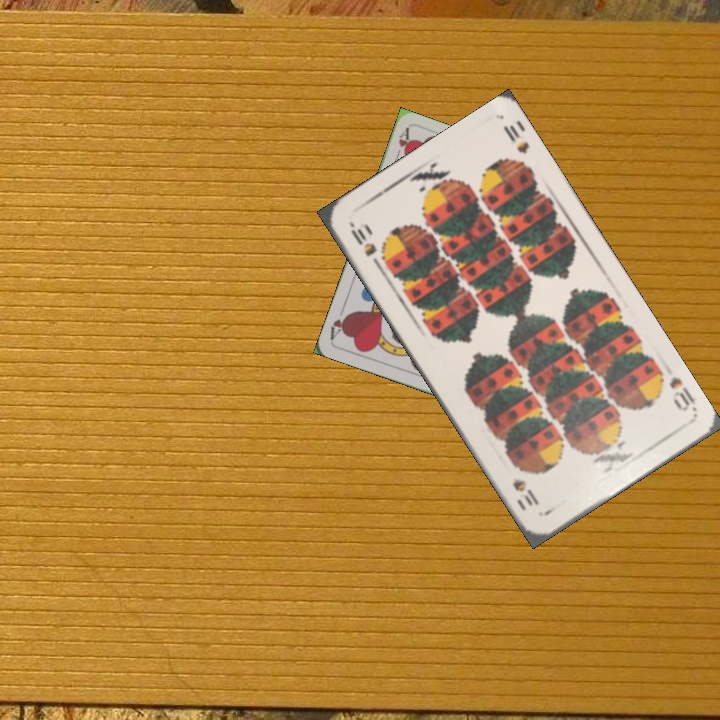HA: (390, 125, 413, 164)
S10: (346, 218, 385, 272), (665, 373, 698, 414)
